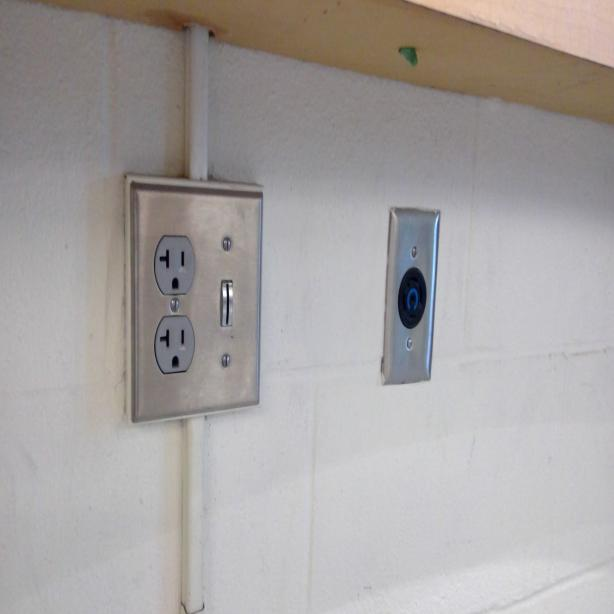typeb: (154, 237, 195, 294), (155, 314, 195, 370)
